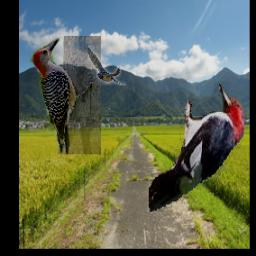Swallow: (88, 46, 126, 86)
Woodpecker: (149, 82, 244, 215), (29, 37, 101, 155)
